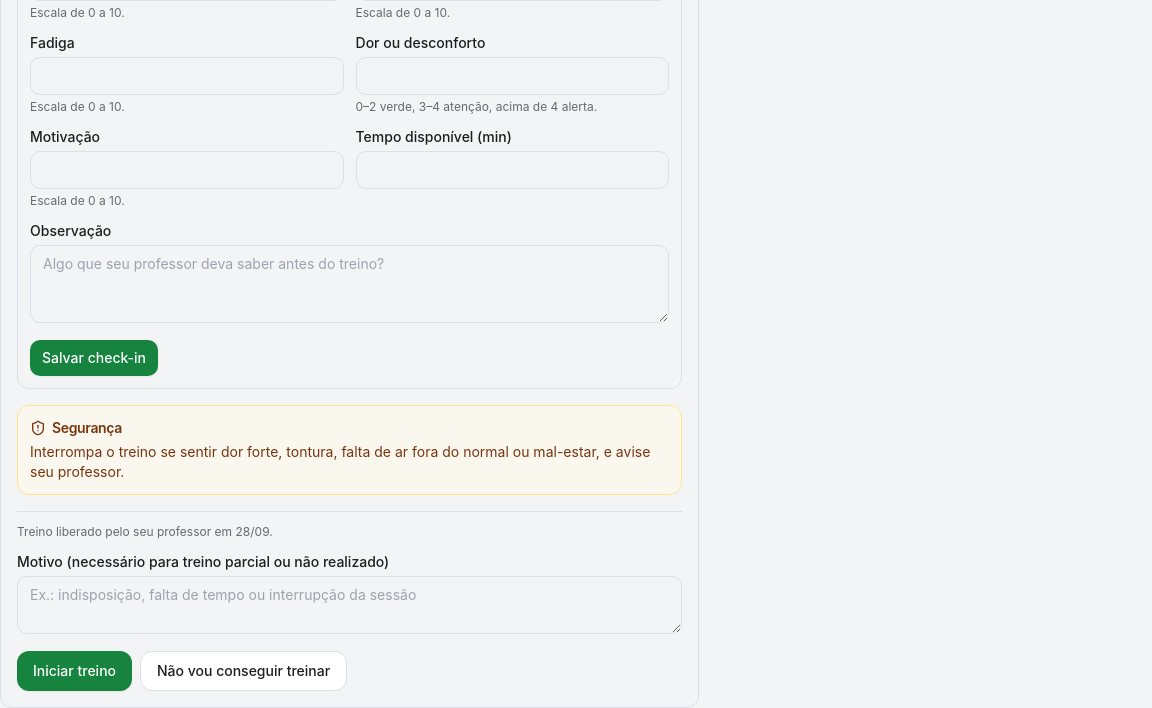
Test: TrainingRoutinePanel (#387) › não afirma ter reconciliado quando a leitura canônica após 409 falha
(page scrolled)
Click the button "Iniciar treino".
click(74, 671)  # box [17,651,132,691]
(page scrolled)
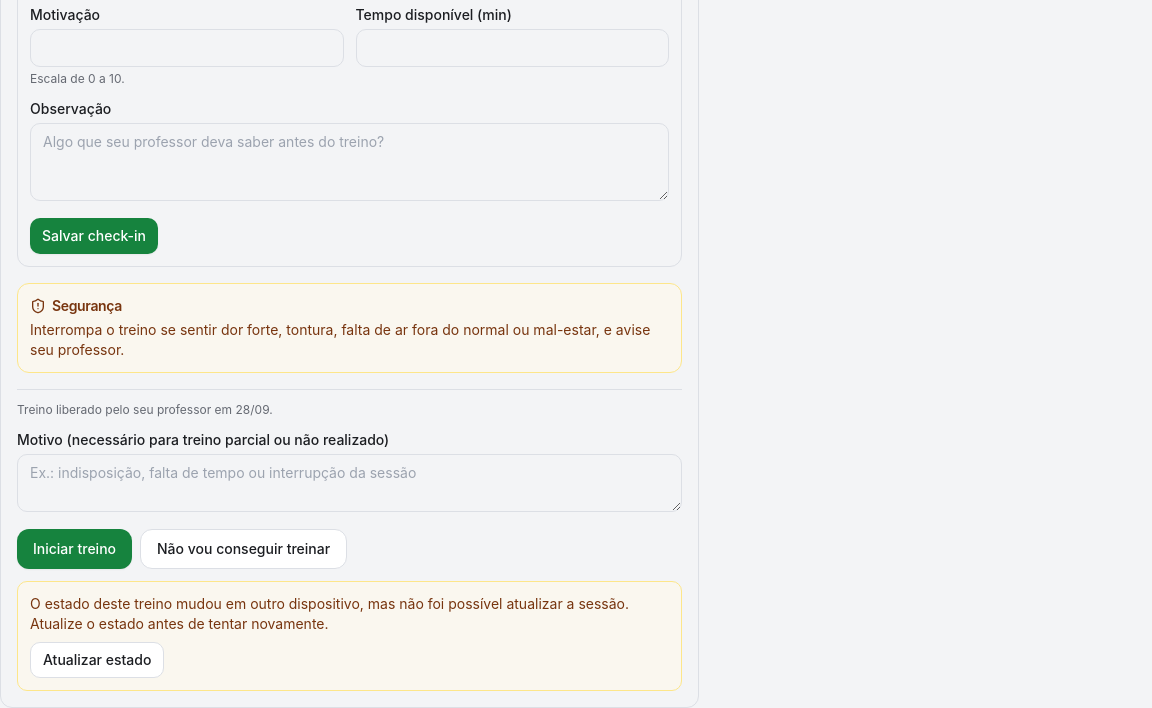
Check: the text "não foi possível atualizar a sessão" is shown, box [30,595,629,632]
